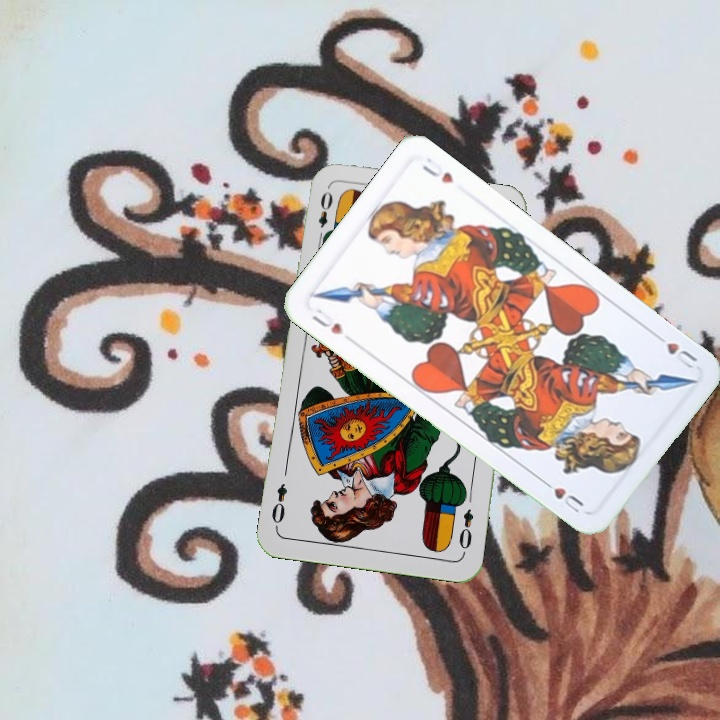EO: (314, 187, 336, 245), (454, 505, 477, 557)
HU: (649, 328, 700, 372), (307, 304, 346, 338)
